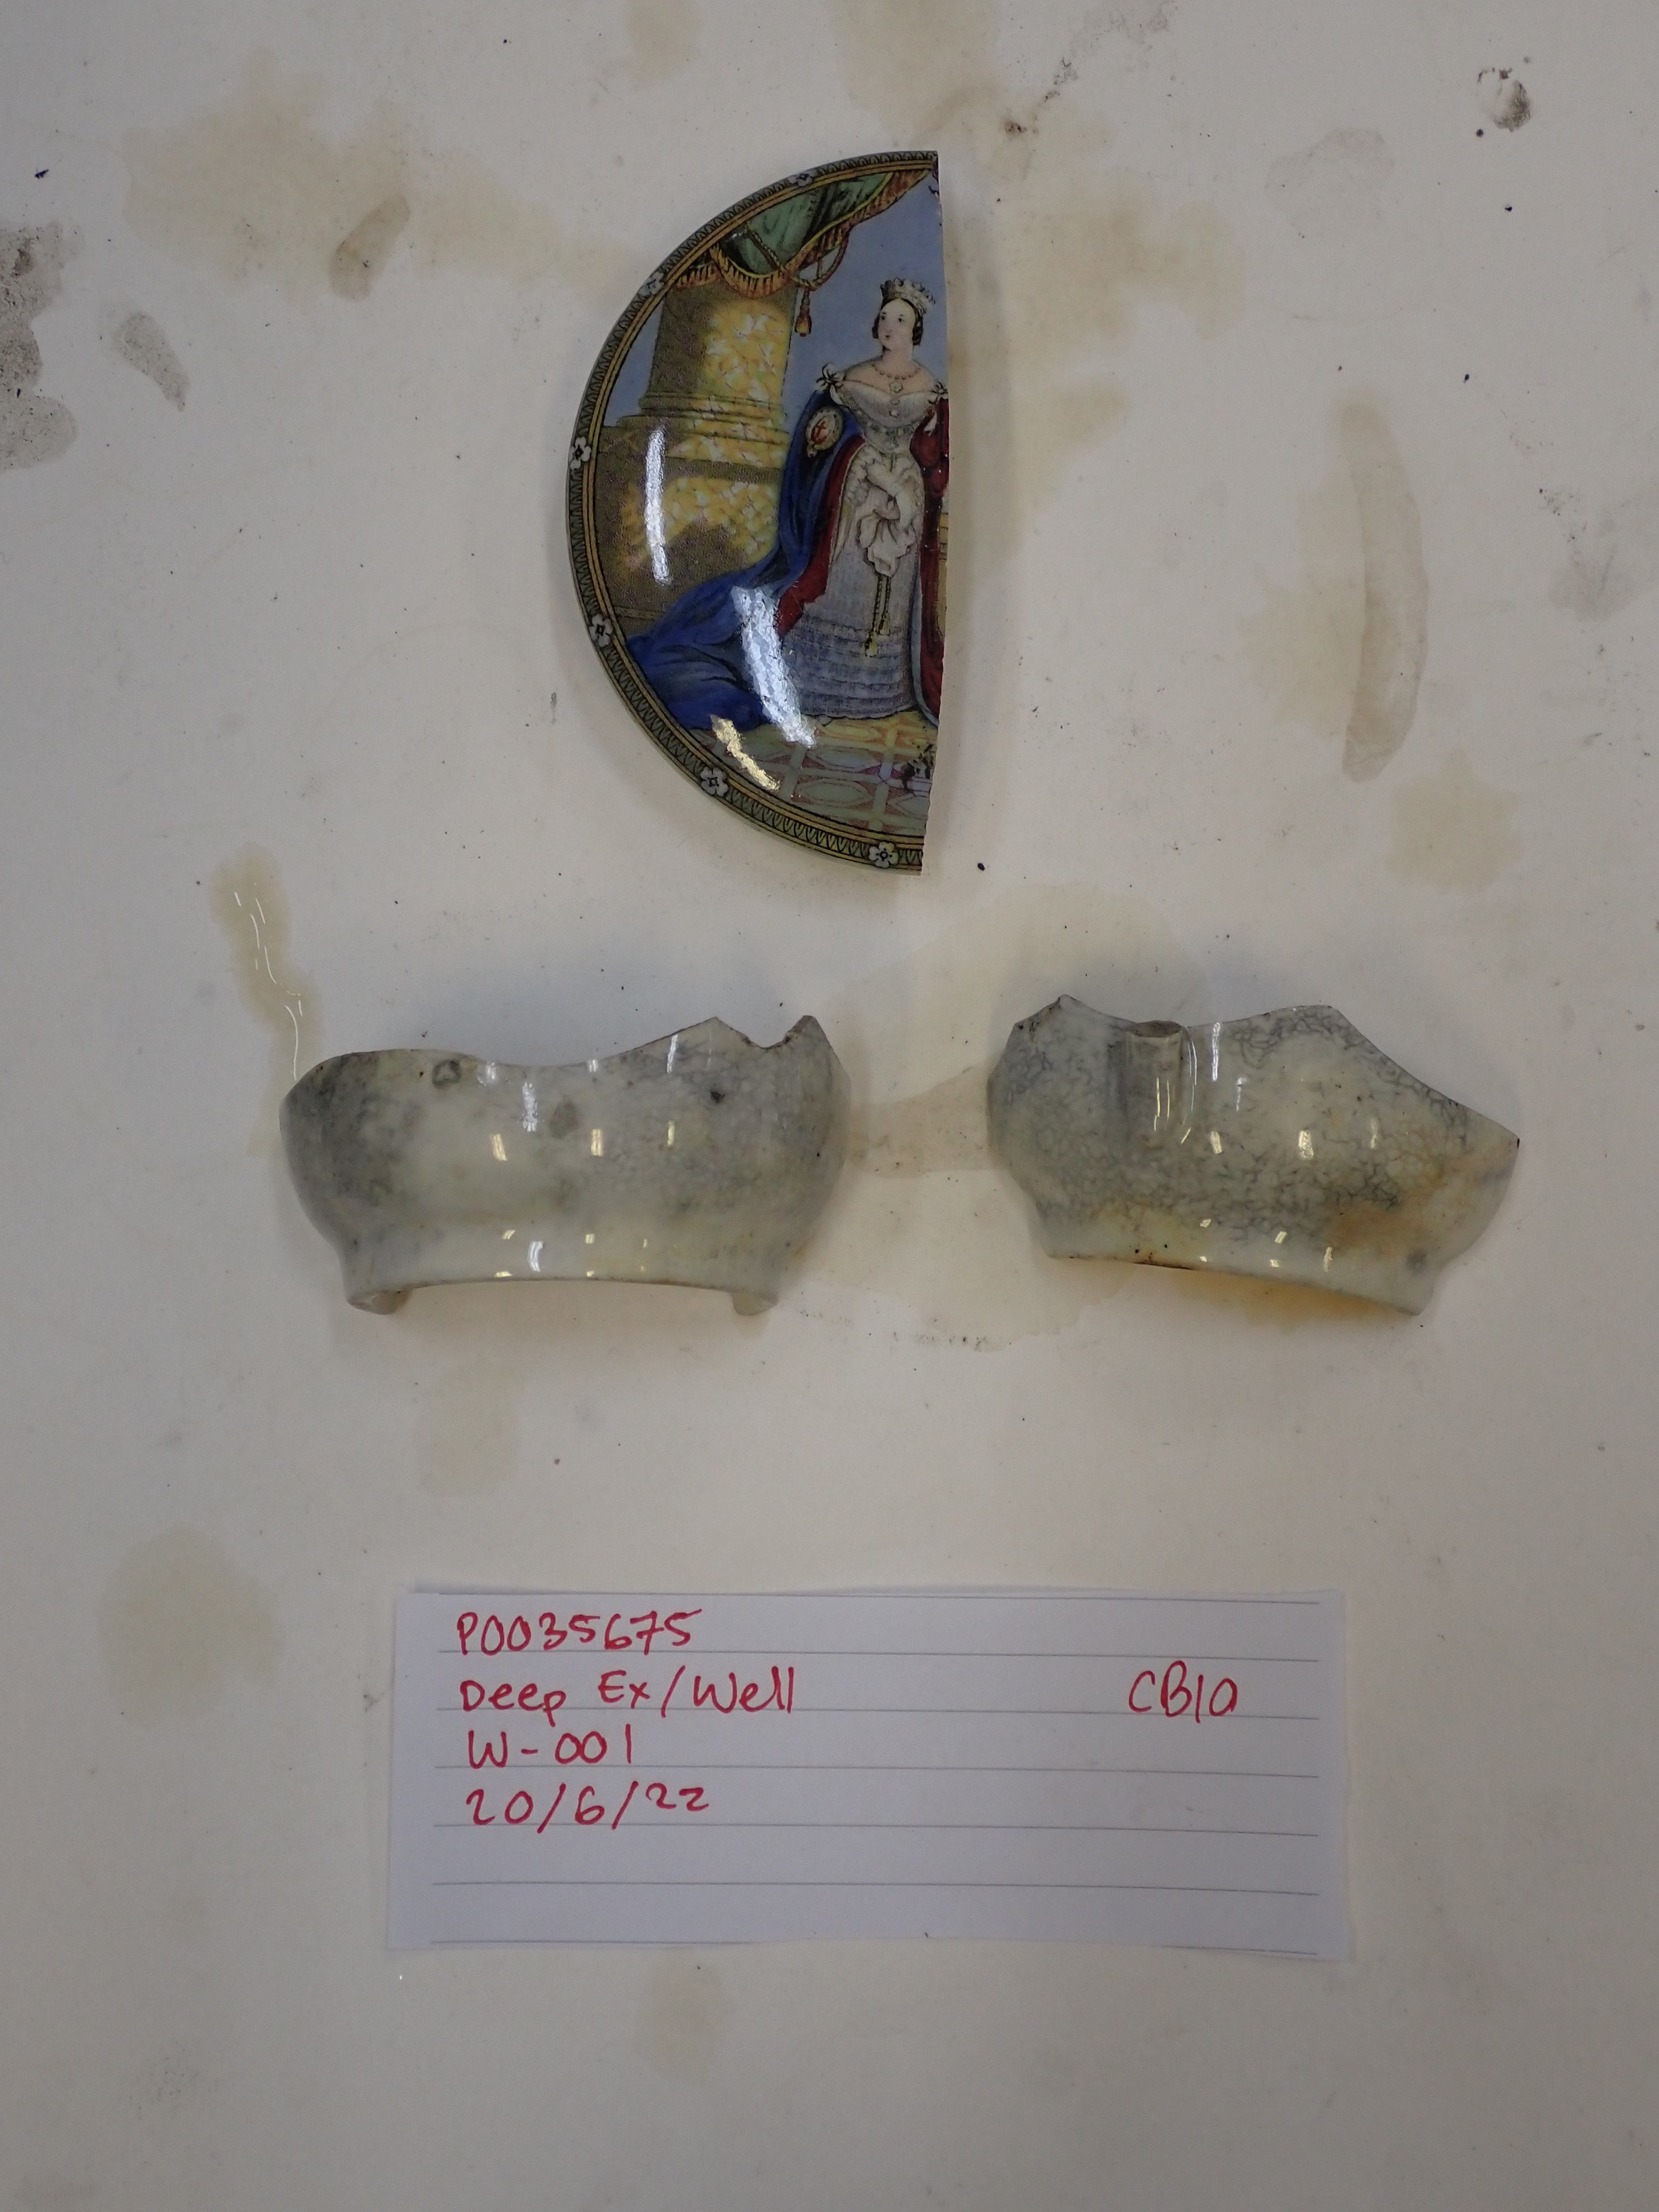Counted_Objects: (533, 141, 992, 890), (240, 979, 866, 1362), (969, 970, 1541, 1355)
Not_Counted_Objects: (361, 1543, 1380, 2001)
